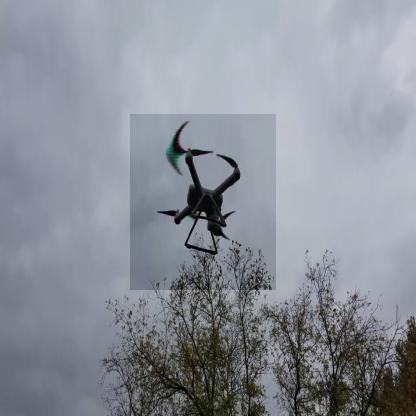Drone: (130, 114, 276, 290)
